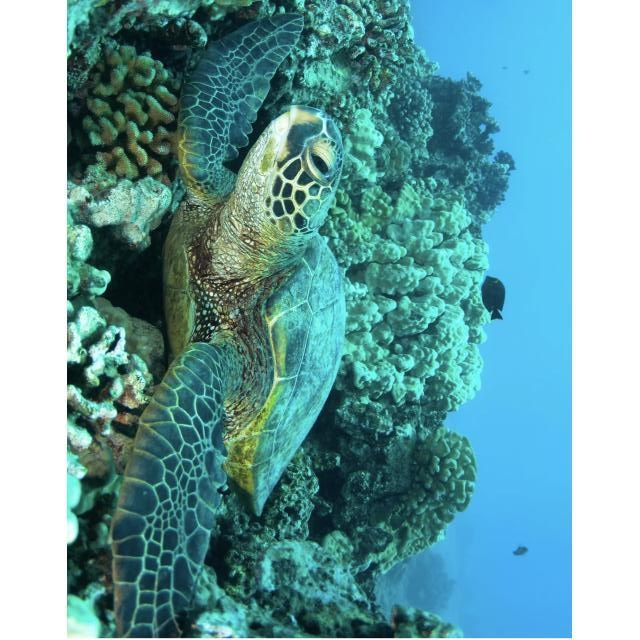turtle: (111, 13, 348, 638)
